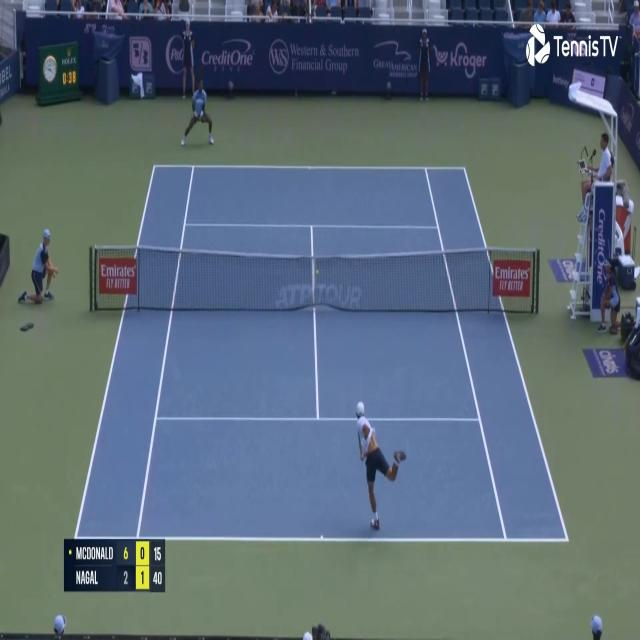tennis-player: (353, 398, 407, 534), (179, 77, 216, 152)
